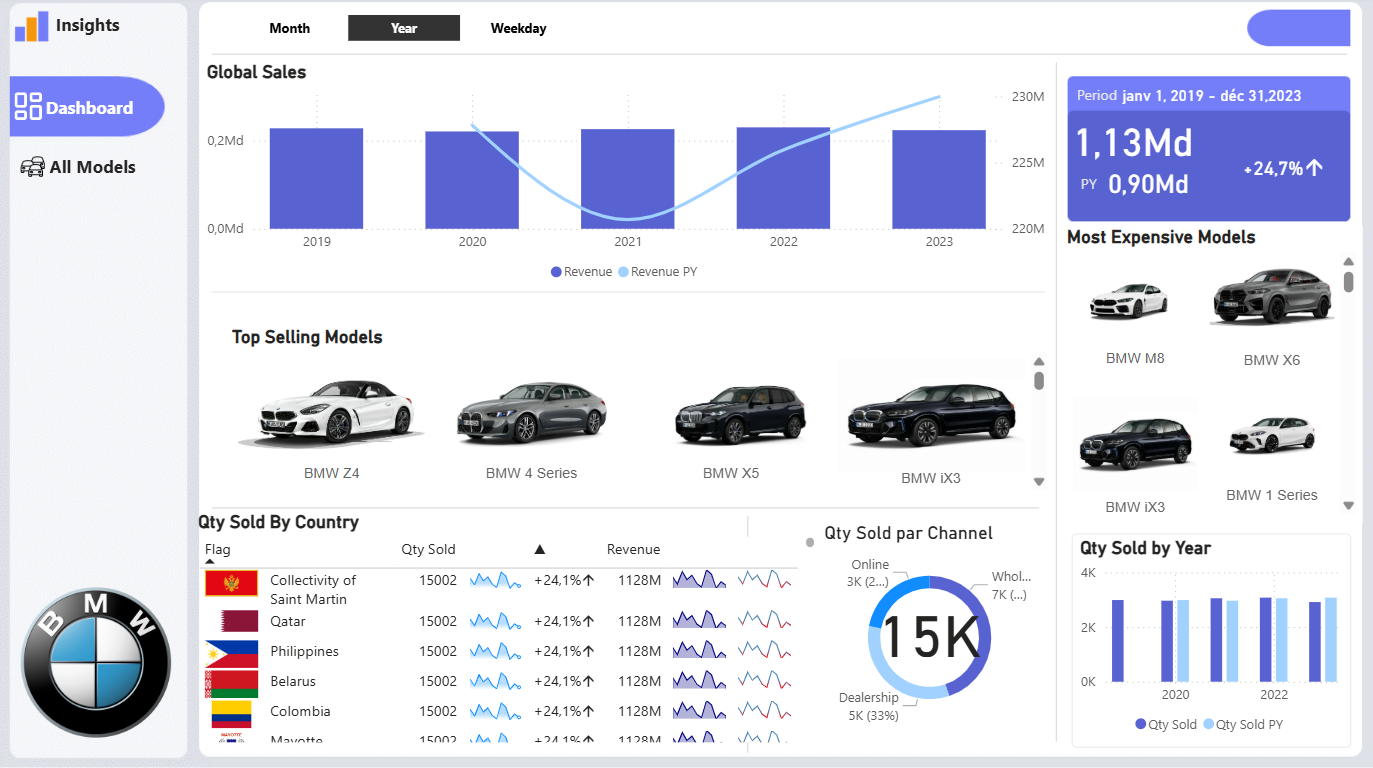

The dashboard page shown, as its layout file describes it:
{"tool":"powerbi","page":{"name":"Dashboard","canvas":[1280,720],"ordinal":0},"visuals":[{"type":"lineClusteredColumnComboChart","title":"Global Sales","fields":{"Category":["Calendar.Year"],"Y":["All Measures.Revenue"],"Y2":["All Measures.Revenue PY"]},"box":[190,60,790,214.3],"z":0},{"type":"slicer","fields":{"Values":["PeriodSlicer.PeriodSlicer"]},"box":[192.5,10,367.5,37.5],"z":2000},{"type":"card","fields":{"Values":["All Measures.Revenue"]},"box":[993,100,126,66],"z":3000},{"type":"card","fields":{"Values":["All Measures.Revenue PY"]},"box":[1023,147,94,56],"z":4000},{"type":"textbox","box":[1002,161,42,28],"z":5000},{"type":"card","fields":{"Values":["All Measures.Revenue Variance % Arrow"]},"box":[1129.2,132.3,133.8,56.2],"z":6000},{"type":"card","fields":{"Values":["All Measures.Selected Period"]},"box":[982.3,65.4,293.8,56.9],"z":7000},{"type":"textbox","box":[998.5,78.5,71.5,30.8],"z":8000},{"type":"ChicletSlicer1448559807354","title":"Most Expensive Models","fields":{"Category":["Car Images.Model"],"Image":["dmModel.img"],"Values":["All Measures.Avg Price"]},"box":[990,214.4,278.9,275.6],"z":9000},{"type":"ChicletSlicer1448559807354","title":"Top Selling Models","fields":{"Category":["Car Images.Model"],"Image":["dmModel.img"],"Values":["All Measures.Qty Sold"]},"box":[213.3,306.7,767.8,160],"z":10000},{"type":"clusteredColumnChart","title":"Qty Sold by Year","fields":{"Y":["All Measures.Qty Sold","All Measures.Qty Sold PY"],"Category":["Calendar.Year"]},"box":[998.9,500,260,198.9],"z":11000},{"type":"donutChart","fields":{"Y":["All Measures.Qty Sold"],"Category":["dmChannel.Channel"]},"box":[764.3,490,205.7,195.7],"z":12000},{"type":"card","fields":{"Values":["All Measures.Qty Sold"]},"box":[811.4,558.6,110,61.4],"z":13000},{"type":"tableEx","title":"Qty Sold By Country ","fields":{"Values":["Countries with Flags URL.Flag","Countries with Flags URL.Country","All Measures.Qty Sold","All Measures.Opaque Area Sparkline (no one value) bright","All Measures.Qty Sold Variance % Arrow","All Measures.Revenue","All Measures.Qty Sold Gradient Sparkline","All Measures.Qty Sold Gradient Sparkline1"]},"box":[181.1,478.9,583.3,220],"z":14000},{"type":"textbox","box":[40,87.1,150,40],"z":15000},{"type":"actionButton","box":[15.7,82.9,131.4,40],"z":16000},{"type":"image","box":[5.7,82.9,44.3,40],"z":17000},{"type":"image","box":[15.7,141.4,32.1,32.9],"z":18000},{"type":"textbox","box":[42.9,141.4,150,37.9],"z":19000},{"type":"actionButton","box":[5.7,137.9,133.6,40],"z":20000},{"type":"image","box":[15.7,540,150,160],"z":21000},{"type":"image","box":[9.3,0,44.2,53.5],"z":22000},{"type":"textbox","box":[48.8,10.5,150,37.2],"z":23000}]}

Visuals, with their boxes on the page's 1280x720 design canvas (x1, y1, x2, y2). These are canvas units, not pixel positions in the 1373x768 screenshot, which may show the page scaled, cropped or inside an application window:
"Global Sales" lineClusteredColumnComboChart: bbox(190, 60, 980, 274)
slicer - PeriodSlicer.PeriodSlicer: bbox(192, 10, 560, 48)
card - All Measures.Revenue: bbox(993, 100, 1119, 166)
card - All Measures.Revenue PY: bbox(1023, 147, 1117, 203)
textbox: bbox(1002, 161, 1044, 189)
card - All Measures.Revenue Variance % Arrow: bbox(1129, 132, 1263, 188)
card - All Measures.Selected Period: bbox(982, 65, 1276, 122)
textbox: bbox(998, 78, 1070, 109)
"Most Expensive Models" ChicletSlicer1448559807354: bbox(990, 214, 1269, 490)
"Top Selling Models" ChicletSlicer1448559807354: bbox(213, 307, 981, 467)
"Qty Sold by Year" clusteredColumnChart: bbox(999, 500, 1259, 699)
donutChart - All Measures.Qty Sold x dmChannel.Channel: bbox(764, 490, 970, 686)
card - All Measures.Qty Sold: bbox(811, 559, 921, 620)
"Qty Sold By Country " tableEx: bbox(181, 479, 764, 699)
textbox: bbox(40, 87, 190, 127)
actionButton: bbox(16, 83, 147, 123)
image: bbox(6, 83, 50, 123)
image: bbox(16, 141, 48, 174)
textbox: bbox(43, 141, 193, 179)
actionButton: bbox(6, 138, 139, 178)
image: bbox(16, 540, 166, 700)
image: bbox(9, 0, 54, 54)
textbox: bbox(49, 10, 199, 48)
